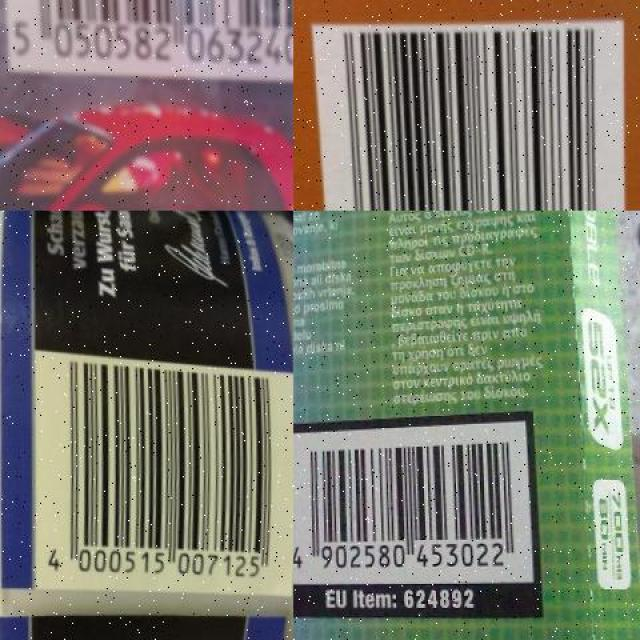Barcode: (23, 347, 293, 600), (309, 17, 628, 211), (293, 419, 528, 584), (0, 0, 293, 84)
